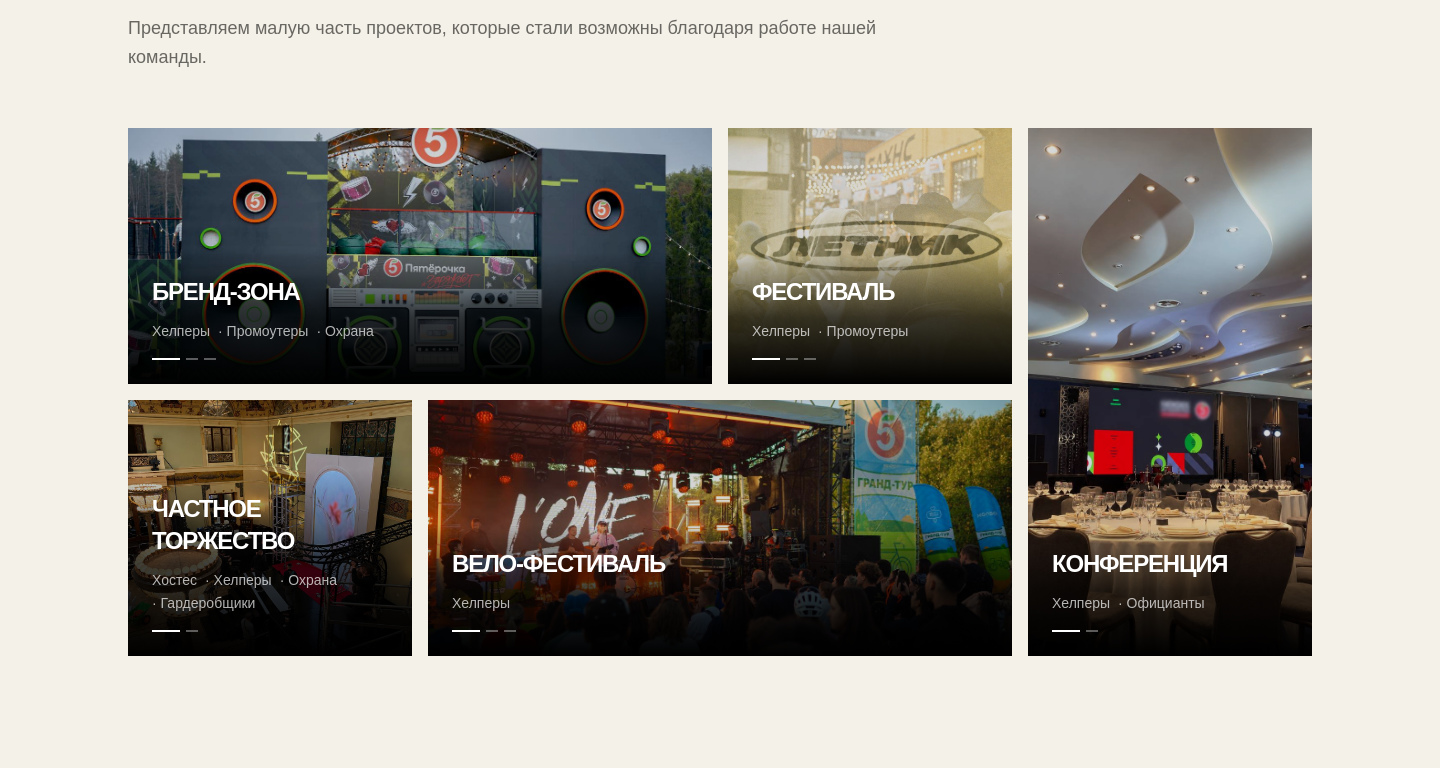
data-driven content sections › opens the private celebration with its approved content and first photo
The image size is (1440, 768).
(page scrolled)
Click the button named "Открыть описание проекта Частное торжество" at {"x": 270, "y": 528}, box [128,400,412,656]
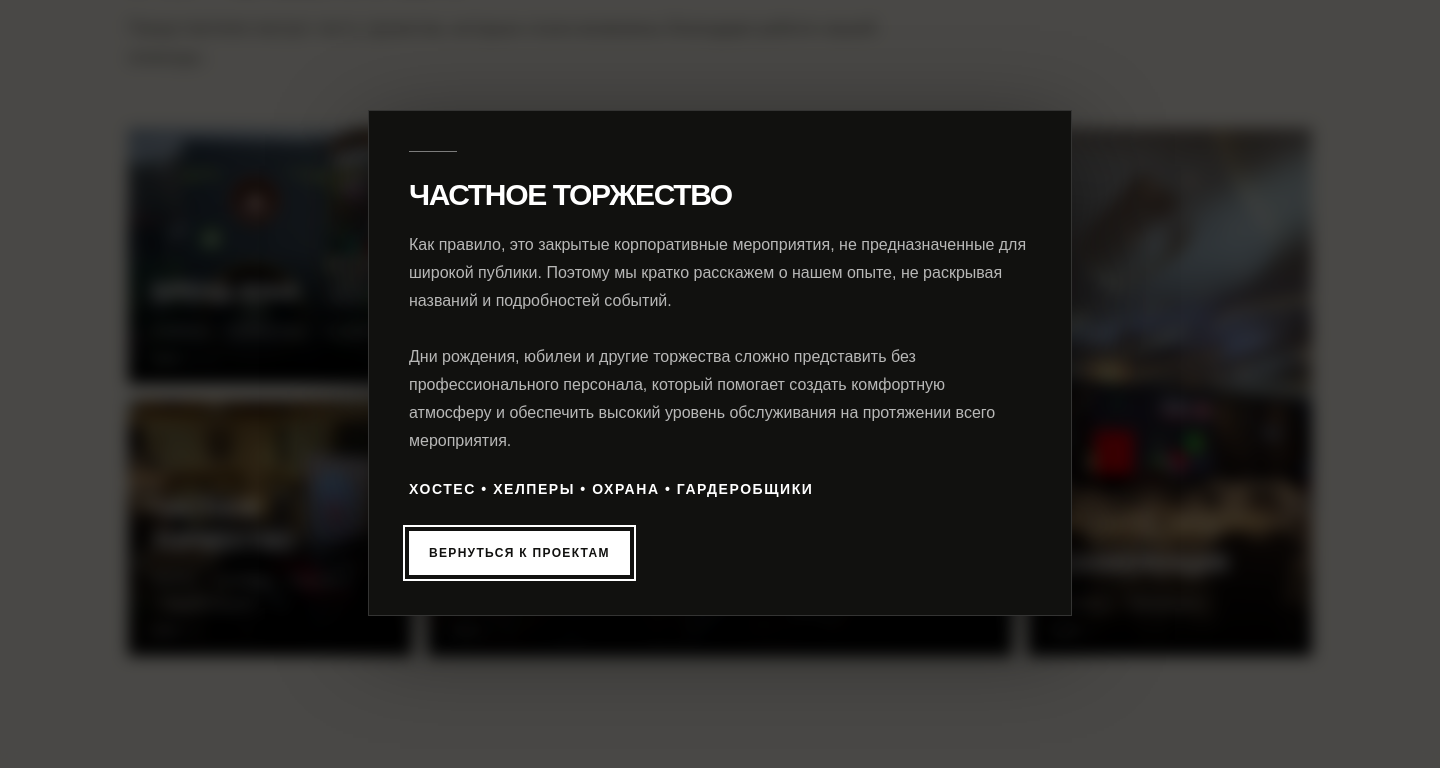
expect the text "Хостес • Хелперы • Охрана • Гардеробщики" is shown: met, box [409,481,813,497]
